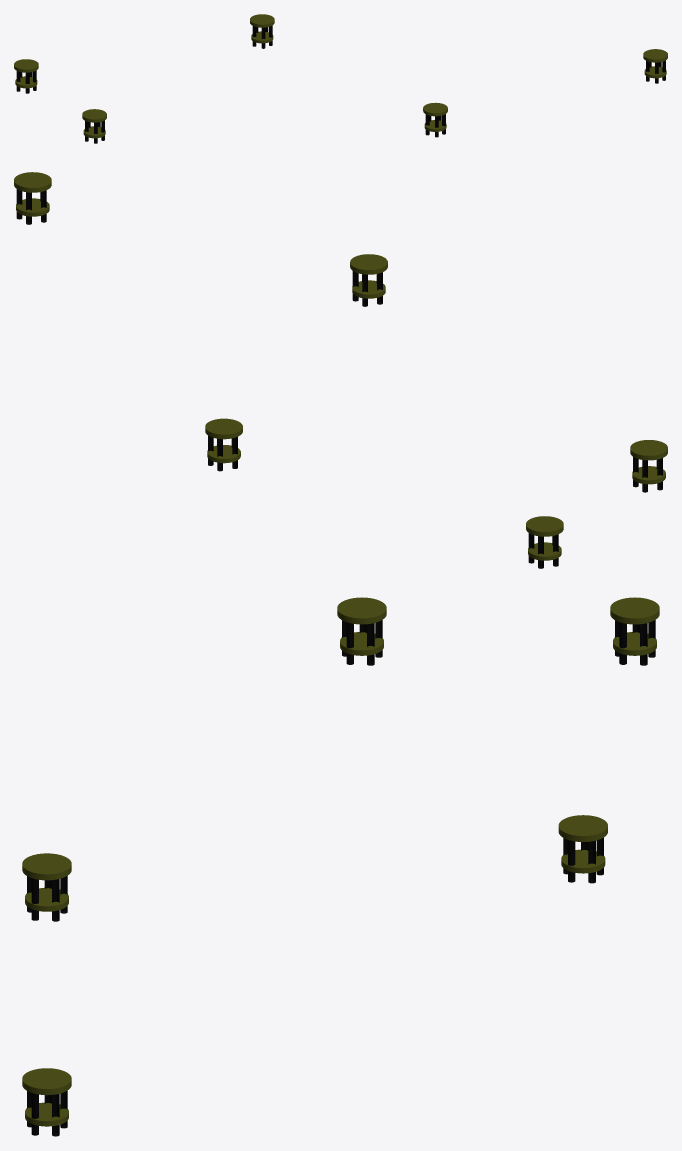
File: chair1.fbx
The picture shows the model from 3 angles, top to bottom: view 1: azimuth 30°, elevation 25°; view 2: azimuth 150°, elevation 25°; view 3: azimuth 270°, elevation 25°; orthographic projection. The views are drawn at different scales.
Visible parts, largest first — view 1: chair.003, chair.001, chair.002, chair, chair.004; view 2: chair.001, chair, chair.003, chair.002, chair.004; view 3: chair.002, chair, chair.001, chair.003, chair.004.
Part boxes in pixels (box(x1,y1,x2,y2)): chair.003: box(14, 59, 38, 93); chair.001: box(423, 102, 447, 137); chair.002: box(250, 14, 274, 48); chair: box(643, 49, 667, 83); chair.004: box(82, 109, 106, 143); chair.001: box(350, 254, 387, 306); chair: box(14, 172, 51, 224); chair.003: box(526, 516, 563, 568); chair.002: box(205, 418, 242, 471); chair.004: box(630, 440, 667, 492); chair.002: box(558, 815, 607, 883); chair: box(22, 1068, 71, 1136); chair.001: box(22, 853, 71, 921); chair.003: box(610, 597, 659, 665); chair.004: box(337, 597, 386, 665).
Bounding box in the file's own units: 5271 × 250 × 2889.
